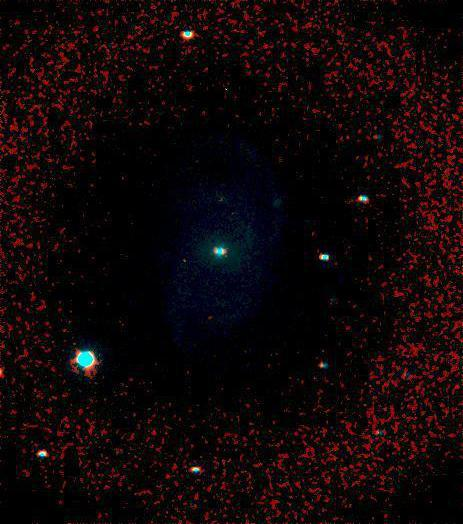star: (171, 246, 201, 276)
